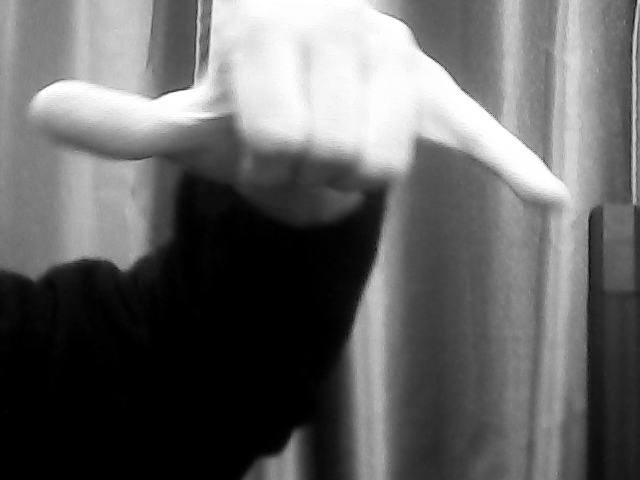aloha: (16, 1, 579, 223)
